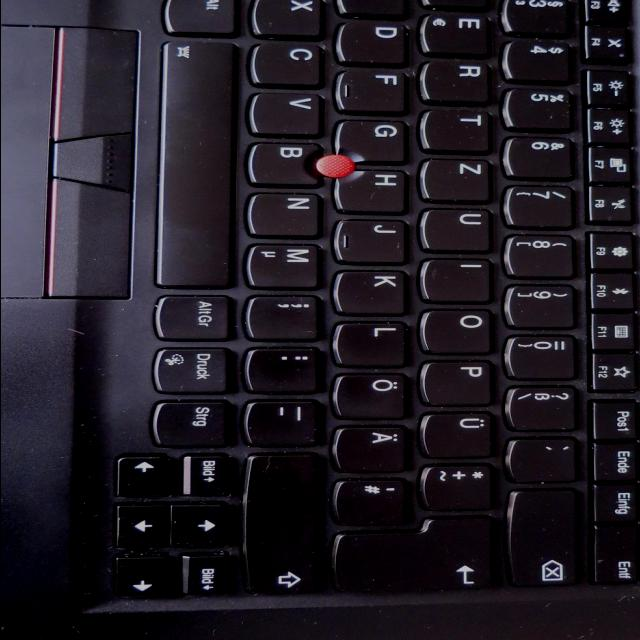0: (507, 333, 582, 379)
2: (503, 0, 571, 20)
3: (503, 0, 573, 34)
4: (505, 39, 575, 81)
5: (506, 87, 577, 129)
6: (505, 134, 577, 178)
7: (507, 184, 578, 227)
8: (507, 232, 579, 276)
9: (507, 283, 581, 327)
a: (339, 0, 411, 19)
accent: (510, 436, 584, 482)
ae: (334, 424, 412, 472)
alt-left: (166, 0, 242, 33)
altgr-right: (157, 292, 235, 340)
b: (249, 141, 325, 185)
c: (252, 40, 326, 86)
comma: (248, 293, 324, 340)
d: (337, 19, 411, 63)
del: (507, 486, 585, 588)
e: (422, 11, 494, 55)
enter: (330, 514, 500, 594)
f: (337, 68, 411, 112)
g: (338, 118, 412, 161)
h: (338, 166, 412, 212)
hash: (335, 477, 411, 524)
i: (423, 257, 497, 301)
j: (334, 218, 412, 263)
k: (336, 268, 412, 314)
keyboard: (102, 0, 640, 603)
l: (334, 320, 412, 366)
m: (247, 241, 325, 288)
minus: (245, 397, 323, 446)
n: (249, 190, 325, 236)
o: (421, 307, 497, 353)
oe: (333, 371, 411, 418)
p: (421, 358, 497, 405)
plus: (423, 462, 499, 509)
point: (248, 345, 324, 393)
q: (421, 0, 493, 16)
r: (422, 58, 494, 102)
s: (338, 0, 411, 21)
shift-right: (246, 451, 324, 595)
space: (160, 36, 240, 290)
ss: (508, 384, 582, 431)
strg-right: (153, 397, 233, 447)
t: (422, 108, 495, 152)
u: (421, 207, 496, 251)
ue: (421, 410, 497, 458)
v: (251, 91, 325, 135)
w: (422, 0, 493, 20)
x: (253, 0, 326, 35)
y: (255, 1, 328, 21)
z: (421, 157, 496, 201)
